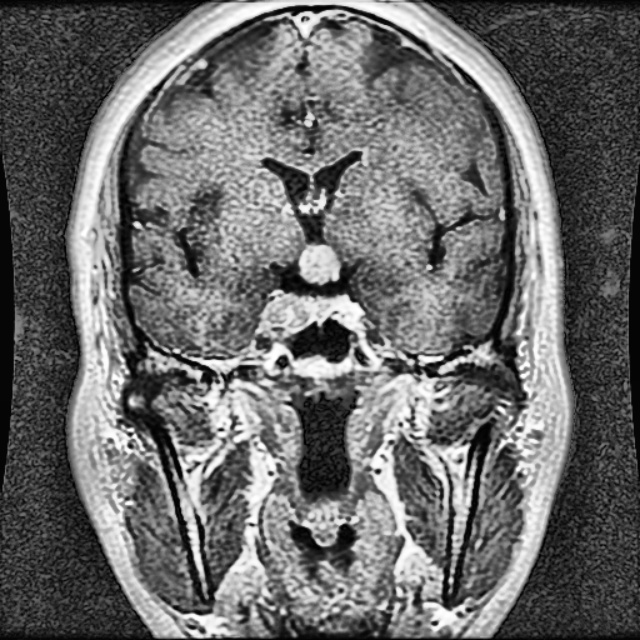Pituitary: (252, 242, 359, 337)
